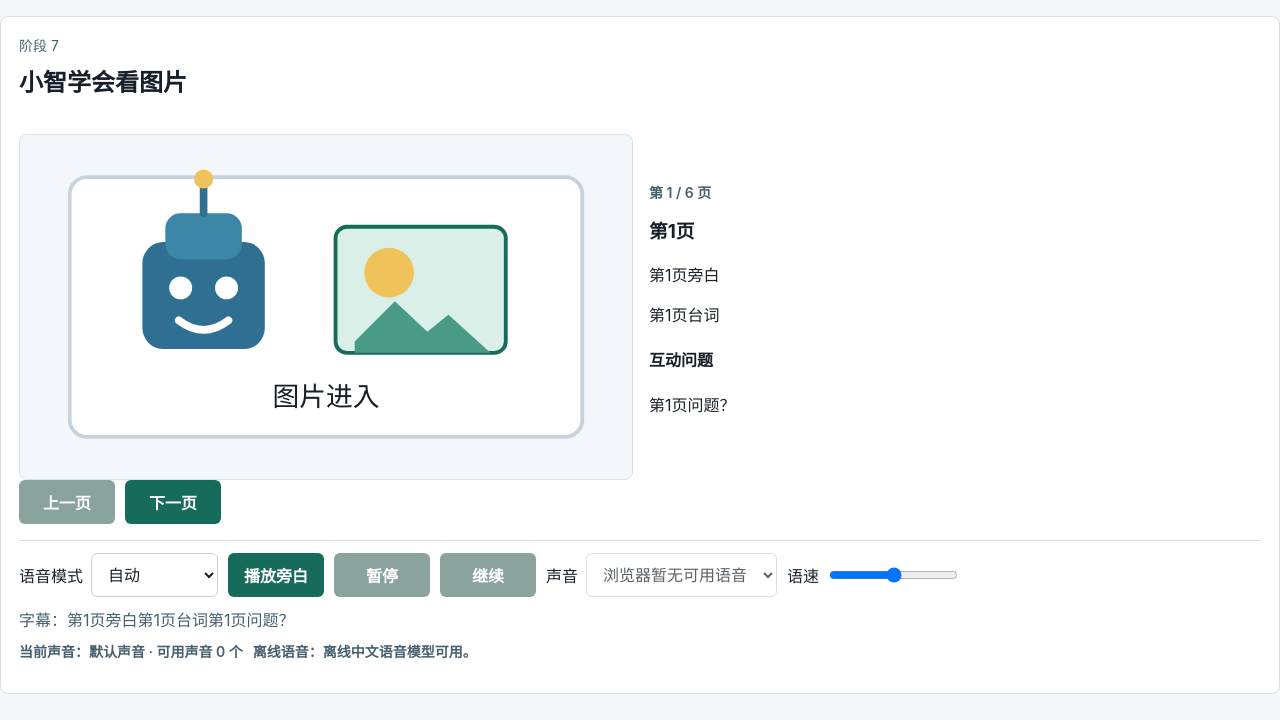
Test case: StorybookPanel › opens by default for lower primary and moves through six pages
What coordinates should you click on to do the following:
click the button "下一页"
I would click on:
 (173, 502)
Its box is [125,480,221,524].
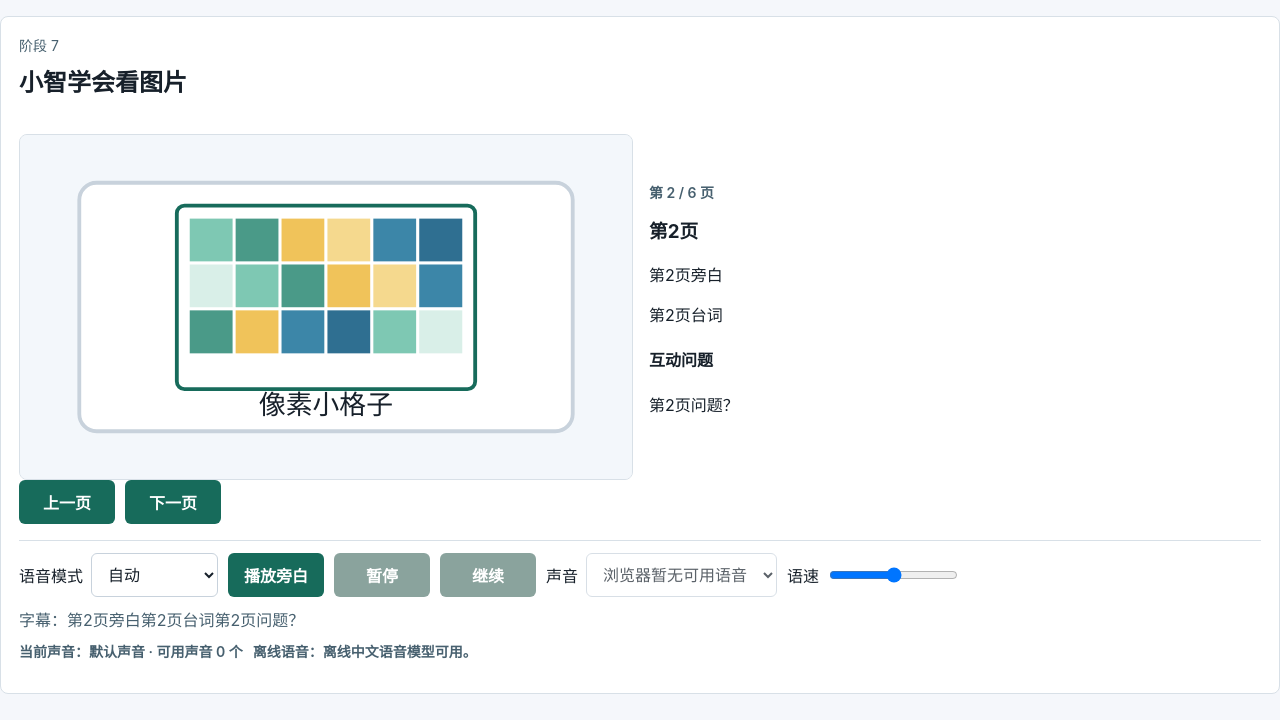
Expected: the text "第2页旁白" is shown, [649,265,723,285]
